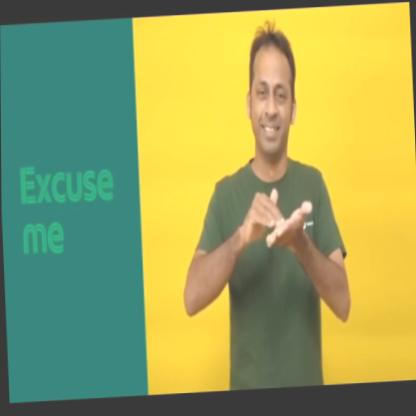ExcuseMe: (172, 18, 354, 392)
